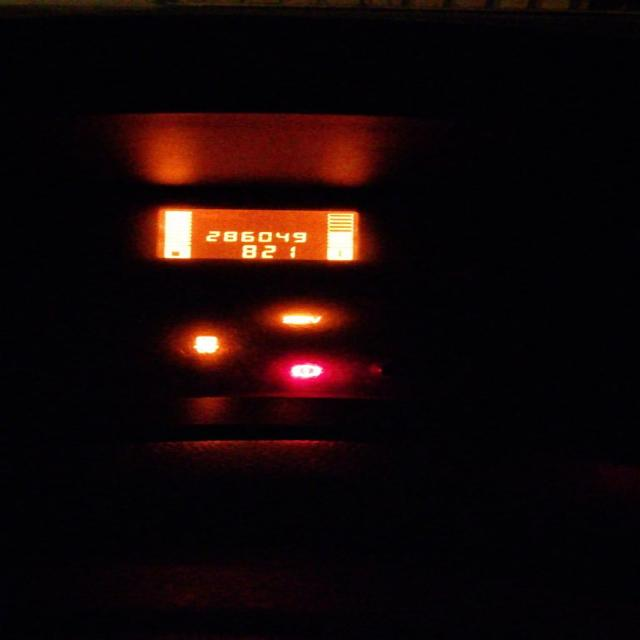odometer: (153, 207, 357, 262)
